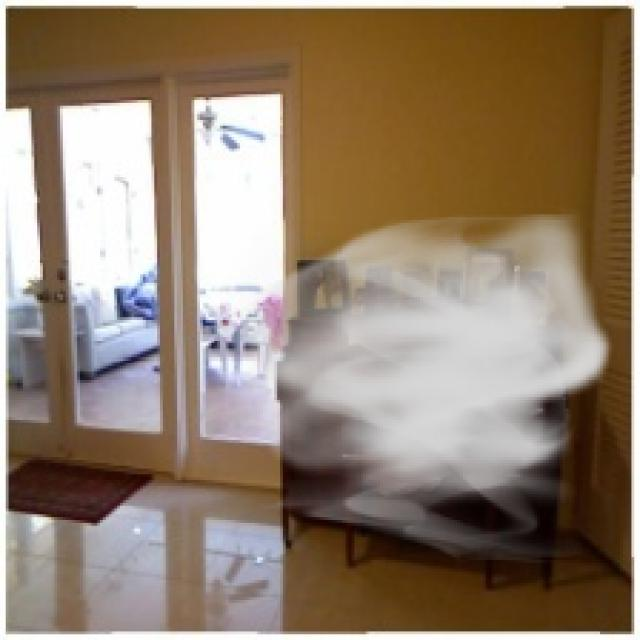smoke: (226, 203, 614, 566)
